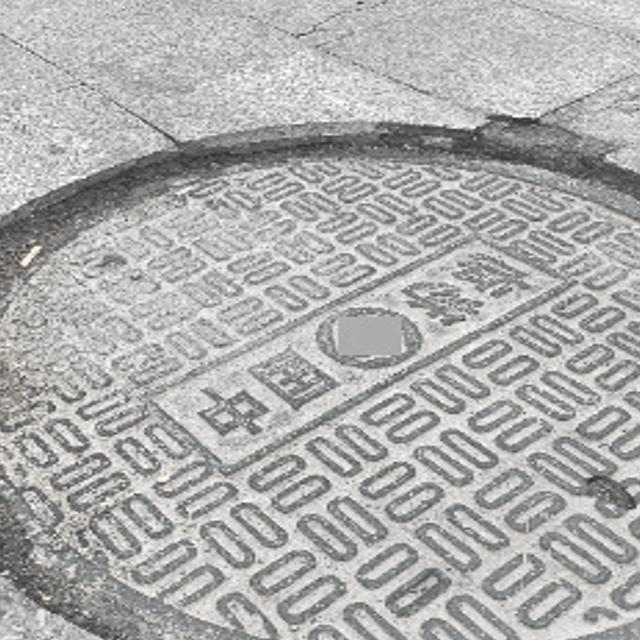good: (0, 144, 640, 640)
